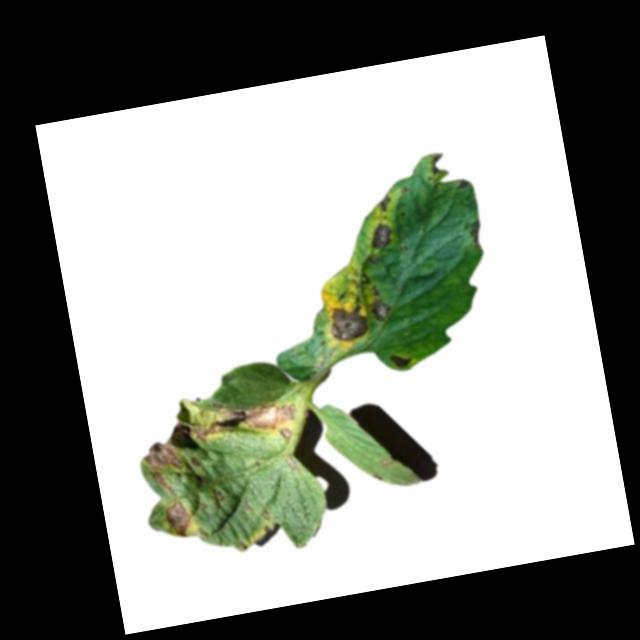Early_blight: (184, 393, 299, 441), (140, 438, 185, 498), (328, 302, 369, 343), (162, 496, 195, 540), (366, 220, 395, 252), (465, 218, 485, 247), (371, 296, 391, 321), (388, 348, 413, 368), (429, 149, 448, 174), (376, 191, 393, 214), (277, 426, 294, 439), (456, 175, 470, 190), (212, 486, 224, 500)
